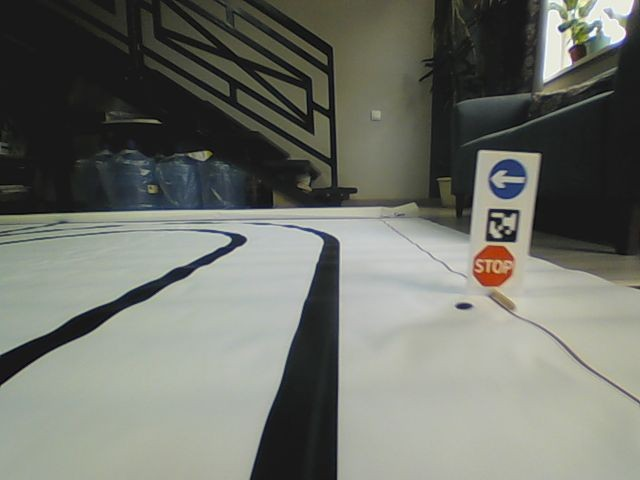Stop: (471, 242, 515, 288)
